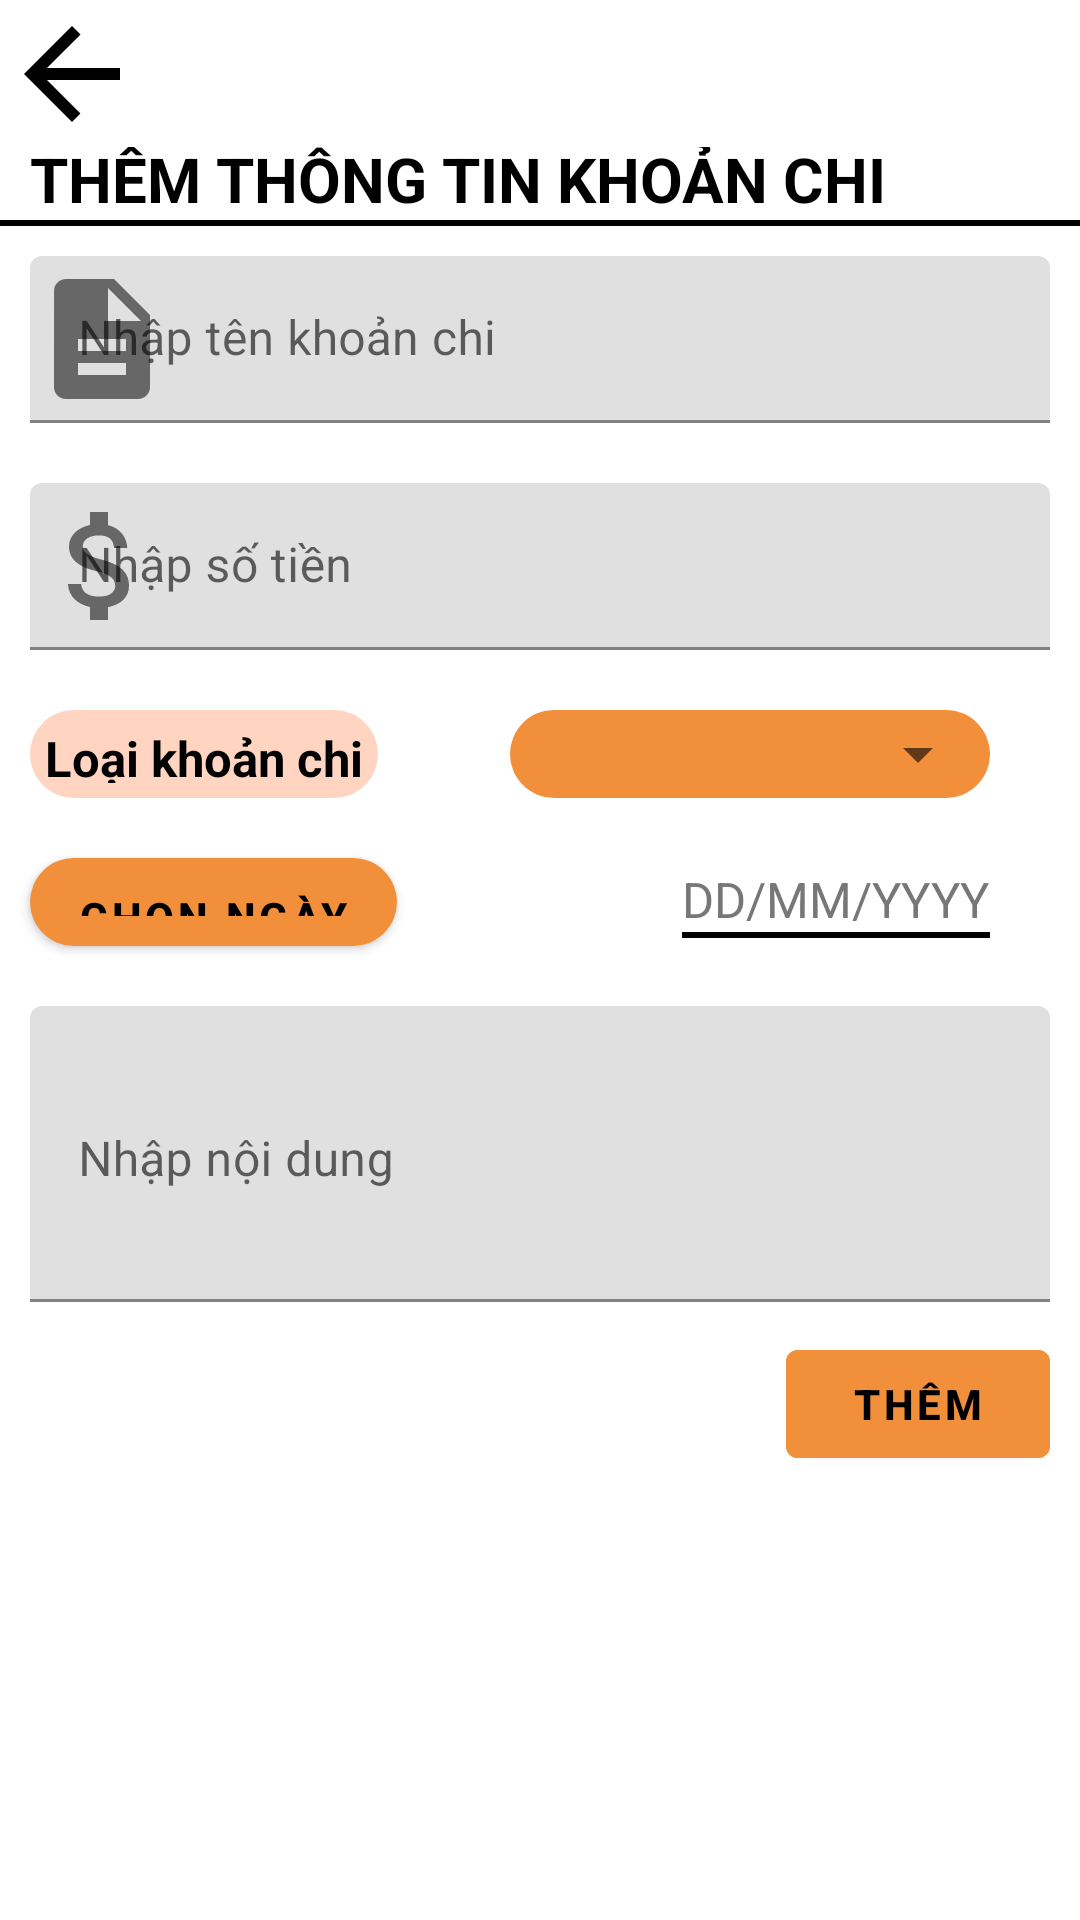

Named icons in this screenshot (1080*1920) and their centers, (x=x, y=y):
arrow back: (x=72, y=74)
